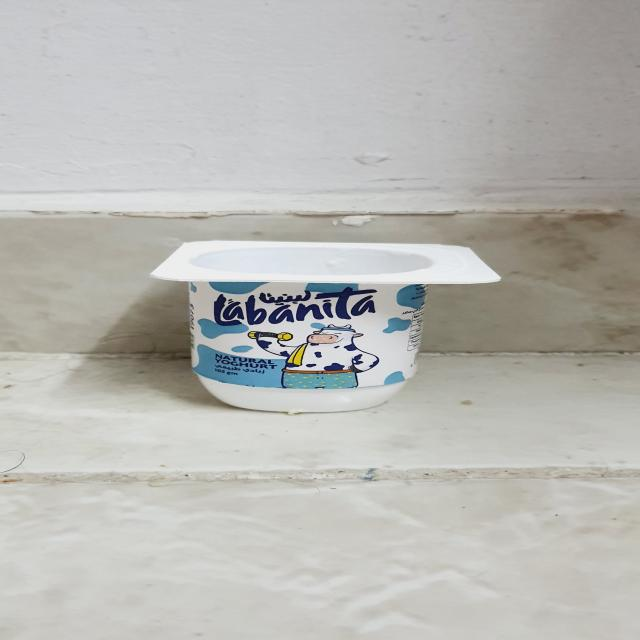plastic: (148, 239, 502, 414)
